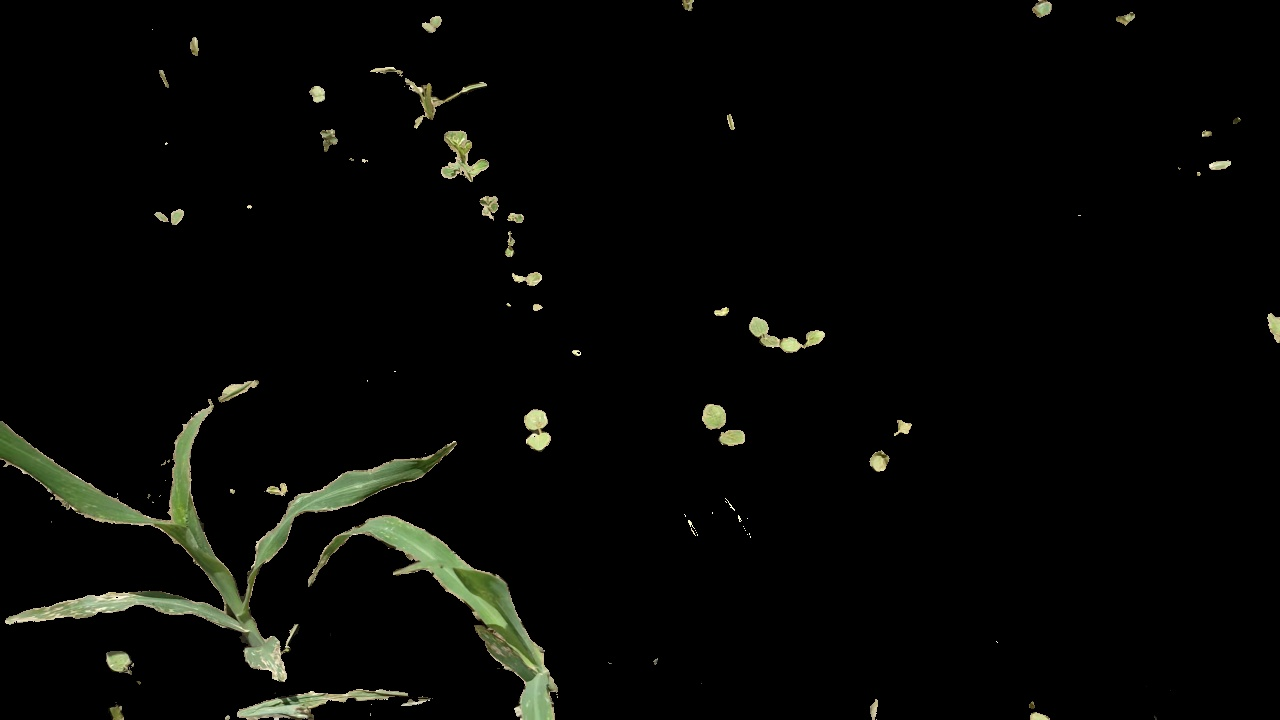crop: (1, 379, 353, 688), (306, 515, 576, 717)
weed: (681, 397, 762, 463), (749, 309, 825, 362), (869, 401, 910, 475), (435, 134, 492, 179), (518, 401, 552, 455), (409, 8, 458, 38), (145, 207, 199, 231), (512, 269, 559, 289)
